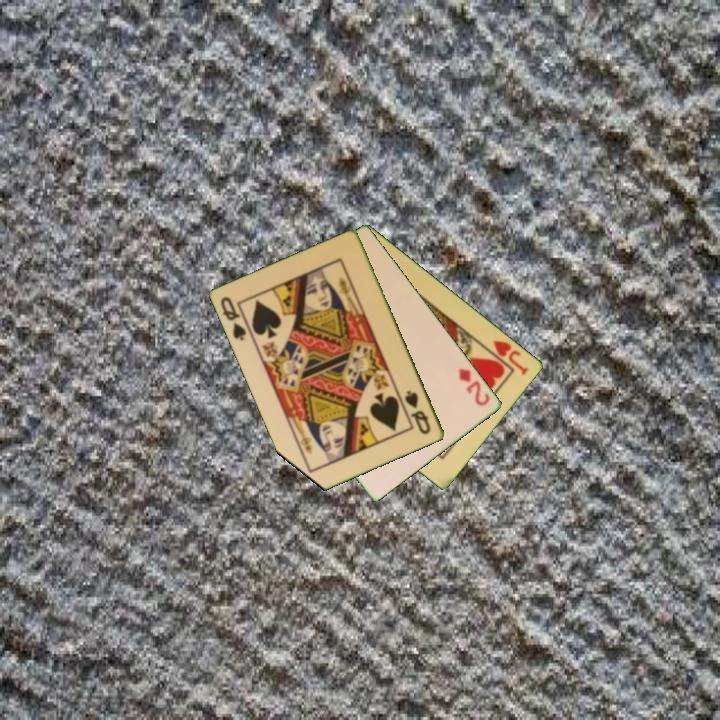2d: (455, 365, 493, 409)
Jh: (481, 336, 532, 378)
Qs: (217, 293, 250, 344), (401, 387, 434, 437)
